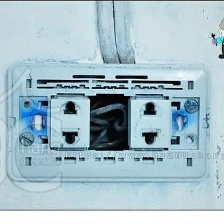three_eye_plug: (1, 61, 212, 185)
